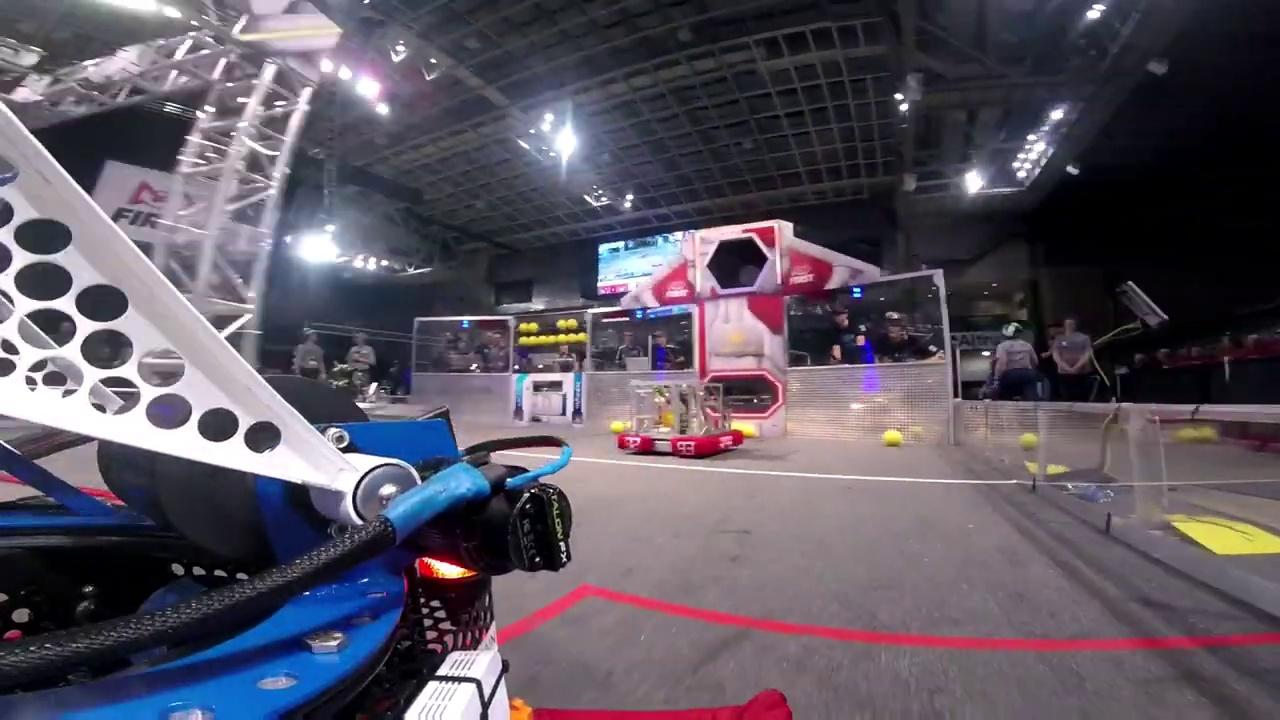robot: (616, 378, 748, 462)
